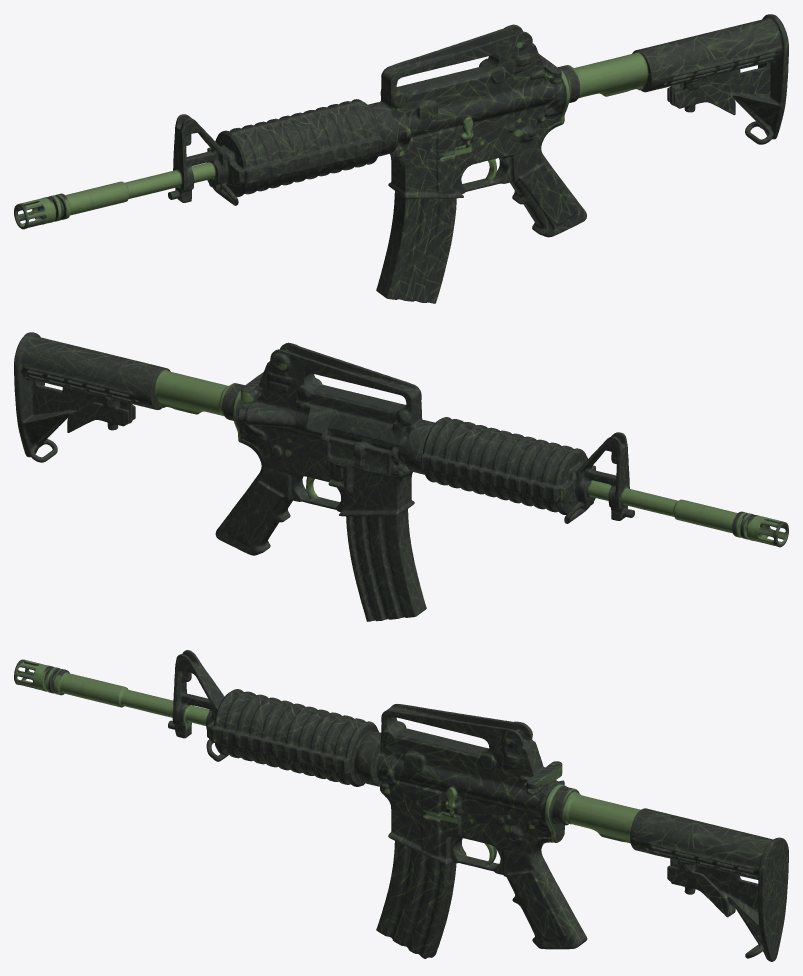
File: Meshy_AI_M4A1_1014151834_texture.glb
3 views of the same model, one above another, from view 1: azimuth 30°, elevation 25°; view 2: azimuth 150°, elevation 25°; view 3: azimuth 330°, elevation 25° (orthographic).
Bounding box in the file's own units: 1.9 × 0.6012 × 0.1635.
1 material, 1 textured.
